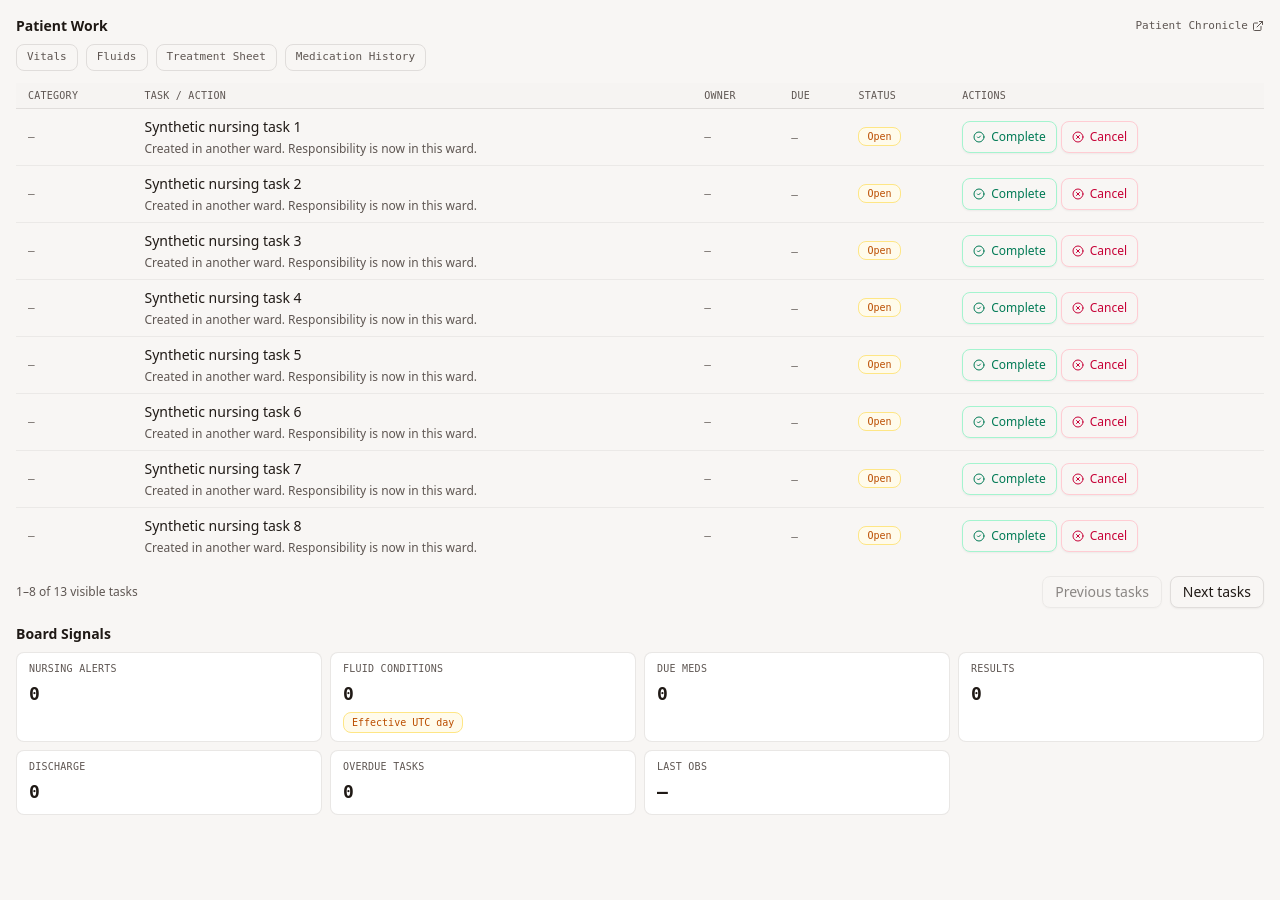
Test: makes tasks beyond the eighth row reachable and omits unsupported priority and acknowledgment claims
Check: the text "Synthetic nursing task 13" is not shown
What coordinates should you click on to do the following:
click the button "Next tasks"
I would click on:
 (1217, 592)
Its box is [1170,576,1264,608].
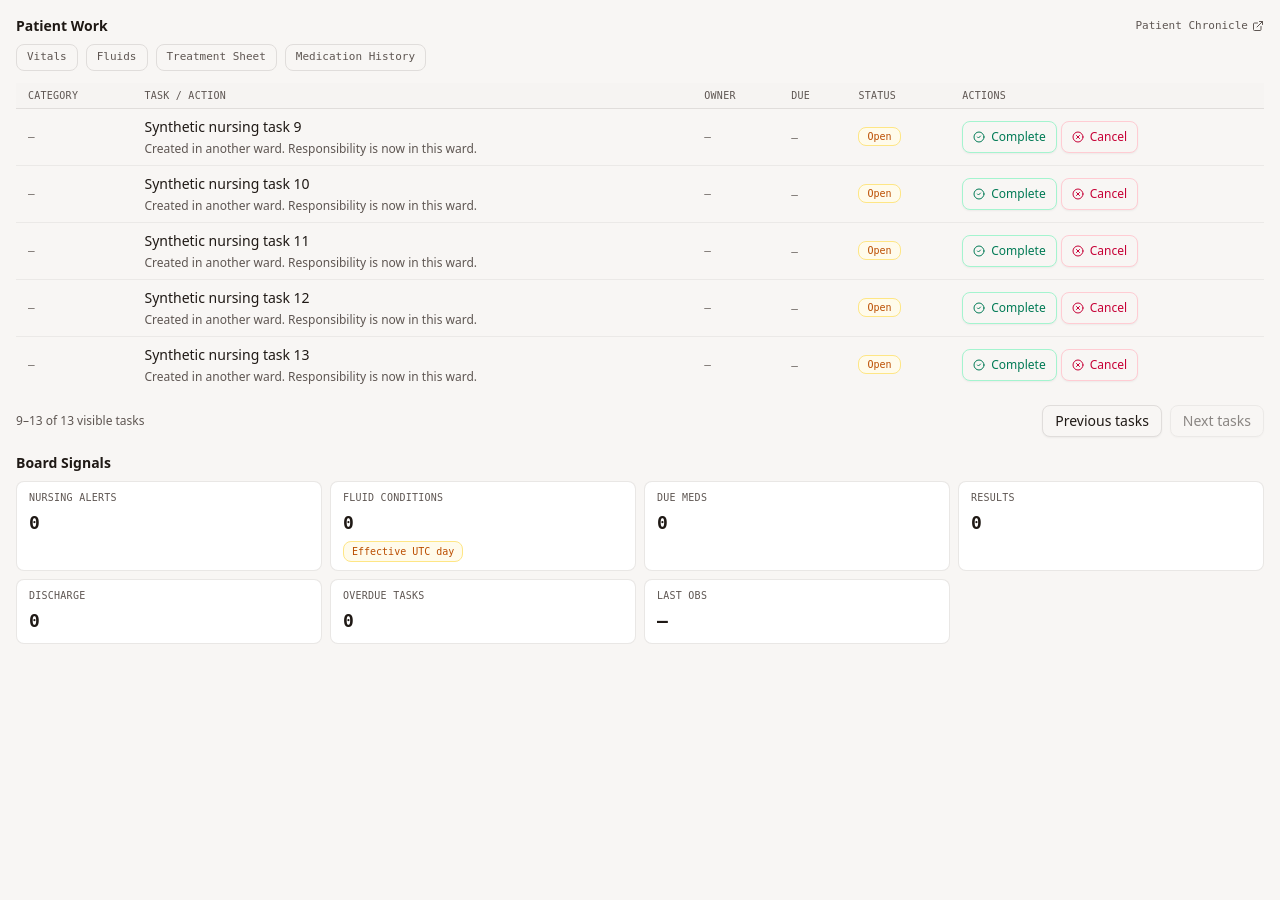
Check: the text "Synthetic nursing task 13" is shown, box [144,345,310,364]
Check: the button "Next tasks" is disabled, box [1170,405,1264,437]
